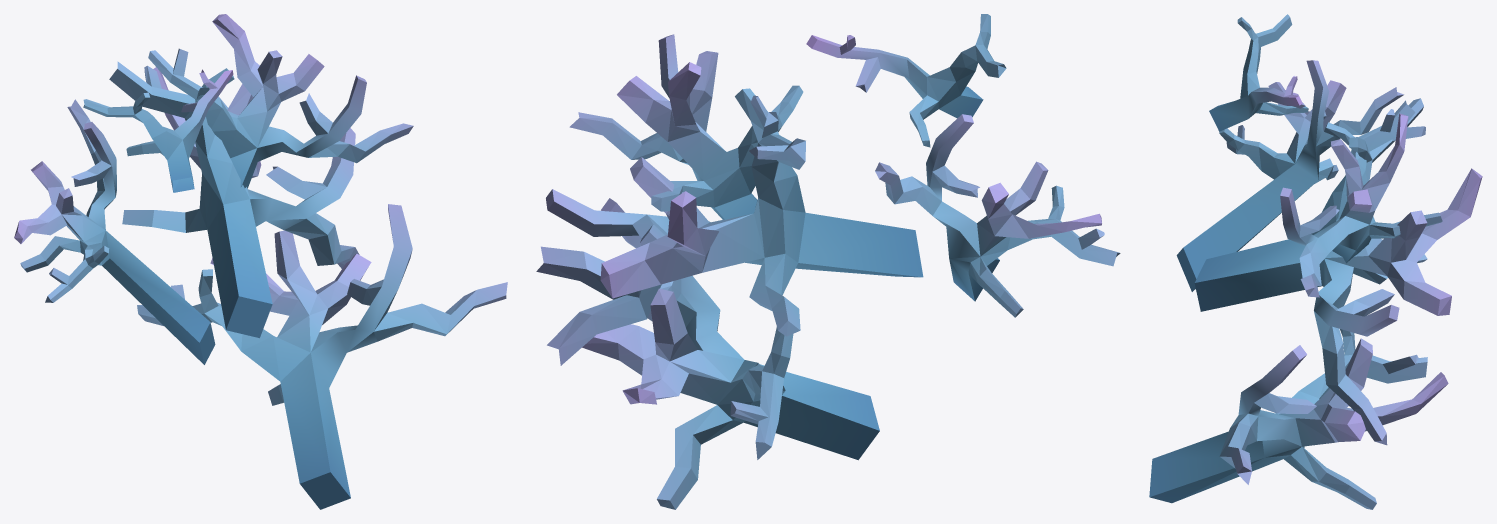
The model's file is Coral_09.FBX.
The picture shows the model from 3 angles, left to right: view 1: azimuth 30°, elevation 25°; view 2: azimuth 150°, elevation 25°; view 3: azimuth 270°, elevation 25°; orthographic projection. The views are drawn at different scales.
Visible parts, largest first — view 1: Coral_09; view 2: Coral_09; view 3: Coral_09.
Part boxes in pixels (left/top/right/bottom): Coral_09: left=14, top=14, right=507, bottom=509; Coral_09: left=536, top=14, right=1120, bottom=509; Coral_09: left=1149, top=14, right=1482, bottom=509.
Bounding box in the file's own units: 8.43 × 7.17 × 5.18.
